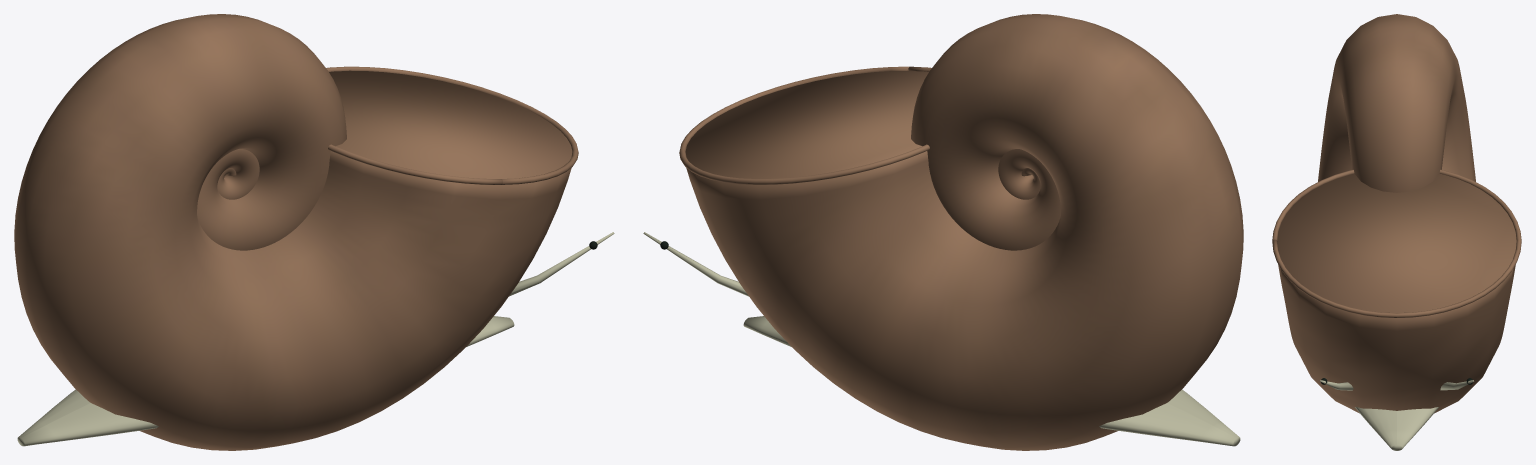
Rendered from ramshorn-desktop.glb.
3 views of the same model, side by side, from view 1: azimuth 30°, elevation 25°; view 2: azimuth 150°, elevation 25°; view 3: azimuth 270°, elevation 25° (orthographic). The views are drawn at different scales.
Parts seen in each view (by area): view 1: continuous-planispiral-shell, muscular-foot, aperture-lip, cephalic-tentacle; view 2: continuous-planispiral-shell, muscular-foot, aperture-lip, cephalic-tentacle; view 3: continuous-planispiral-shell, aperture-lip, muscular-foot, cephalic-tentacle.
Part boxes in pixels (box(x1,y1,x2,y2)): continuous-planispiral-shell: box(14, 14, 572, 450); muscular-foot: box(17, 316, 514, 446); aperture-lip: box(326, 66, 578, 184); cephalic-tentacle: box(509, 232, 614, 296); continuous-planispiral-shell: box(685, 14, 1243, 450); muscular-foot: box(743, 316, 1240, 446); aperture-lip: box(679, 66, 931, 184); cephalic-tentacle: box(643, 232, 748, 296); continuous-planispiral-shell: box(1277, 14, 1516, 413); aperture-lip: box(1272, 169, 1521, 317); muscular-foot: box(1355, 407, 1438, 450); cephalic-tentacle: box(1320, 380, 1473, 390).
Bounding box in the file's own units: 0.5905 × 0.4447 × 0.294.
